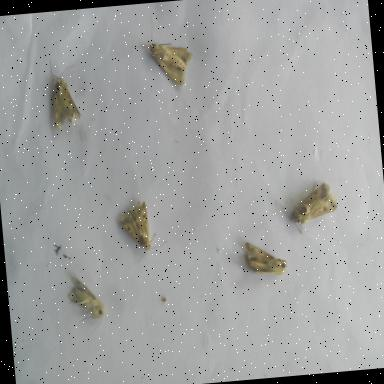abw: (124, 6, 199, 94), (271, 173, 344, 246), (114, 193, 174, 271), (43, 52, 88, 135), (62, 268, 110, 338), (238, 232, 291, 282)
